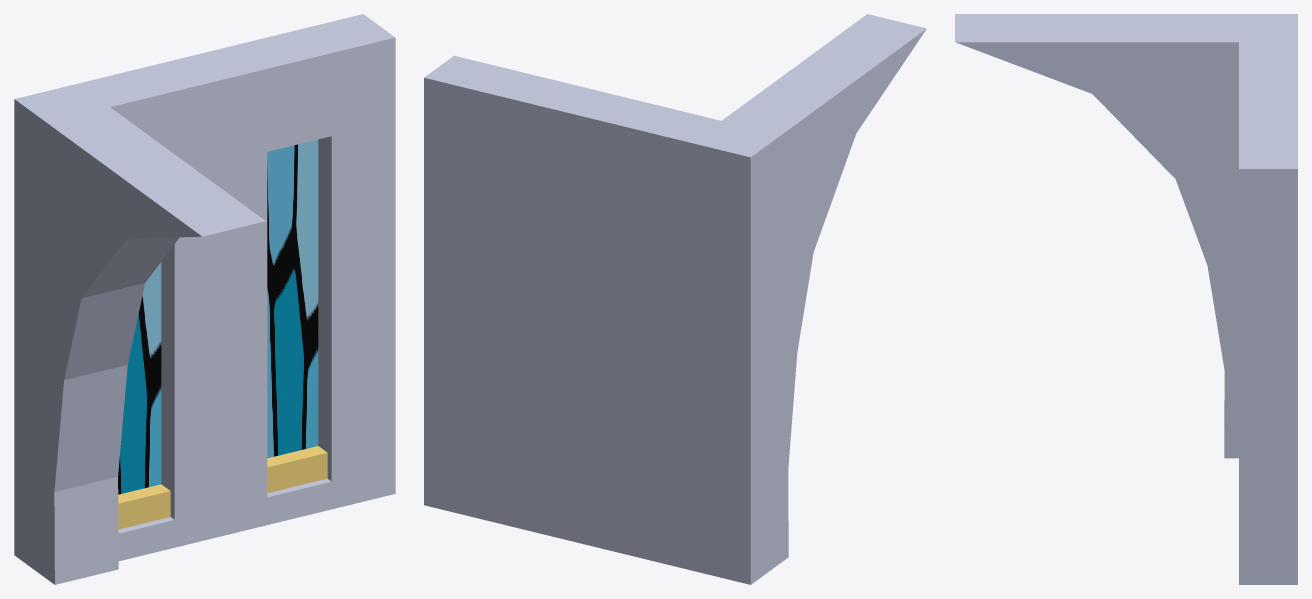
Rendered from stage4_wall2.fbx.
The picture shows the model from 3 angles, left to right: view 1: azimuth 30°, elevation 25°; view 2: azimuth 150°, elevation 25°; view 3: azimuth 270°, elevation 25°; orthographic projection. The views are drawn at different scales.
Visible parts, largest first — view 1: wall; view 2: wall; view 3: wall.
Boxes of the visible parts, x1,y1,x2,y2 form: wall: [14, 14, 395, 584]; wall: [424, 14, 926, 584]; wall: [955, 14, 1297, 584].
Size of the model in its own units: 400 by 500 by 373.
